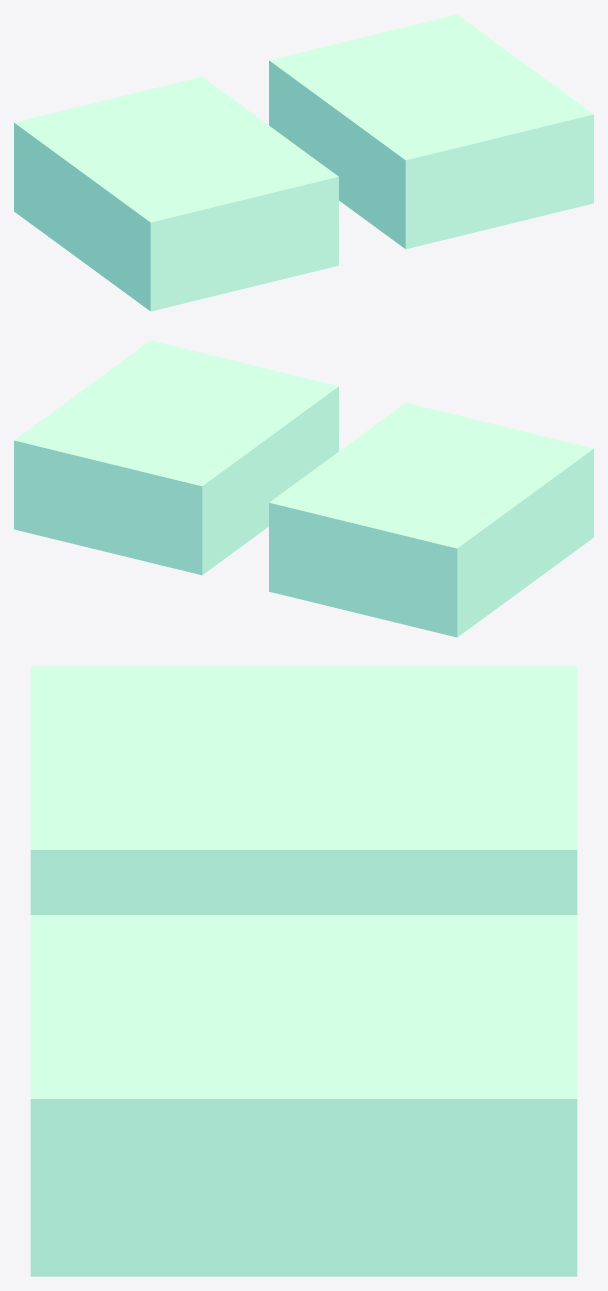
The model's file is kui_hoof.glb.
The picture shows the model from 3 angles, top to bottom: view 1: azimuth 30°, elevation 25°; view 2: azimuth 150°, elevation 25°; view 3: azimuth 270°, elevation 25°; orthographic projection. The views are drawn at different scales.
Parts seen in each view (by area): view 1: hoof_l, hoof_r; view 2: hoof_l, hoof_r; view 3: hoof_r, hoof_l.
Part boxes in pixels (x1=…): hoof_l: x1=14, y1=76, x2=338, y2=311; hoof_r: x1=269, y1=14, x2=593, y2=249; hoof_l: x1=269, y1=402, x2=593, y2=637; hoof_r: x1=14, y1=340, x2=338, y2=575; hoof_r: x1=30, y1=915, x2=577, y2=1276; hoof_l: x1=30, y1=666, x2=577, y2=914.
Bounding box in the file's own units: 1.46 × 0.28 × 0.78.
